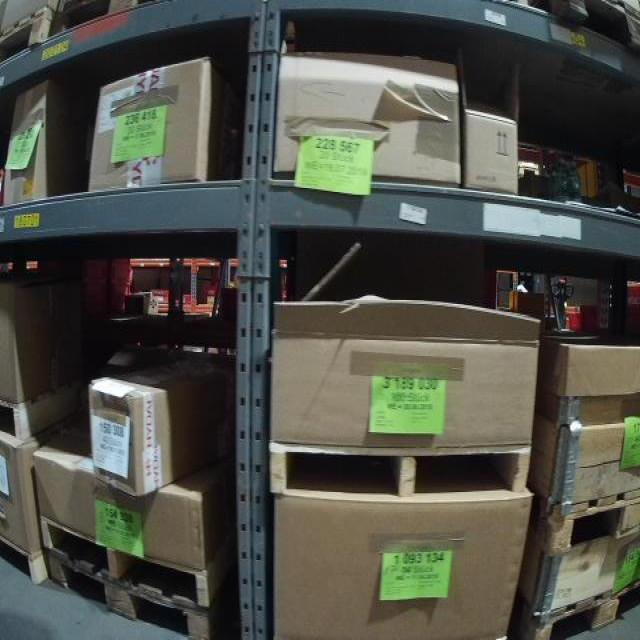pallet: (35, 517, 222, 607), (264, 443, 532, 503), (46, 550, 213, 640), (514, 581, 640, 640), (530, 489, 640, 555), (0, 376, 86, 441), (552, 0, 640, 58), (0, 6, 62, 60)
small_load_carrier: (562, 305, 605, 340), (142, 287, 175, 304), (199, 286, 224, 306)
